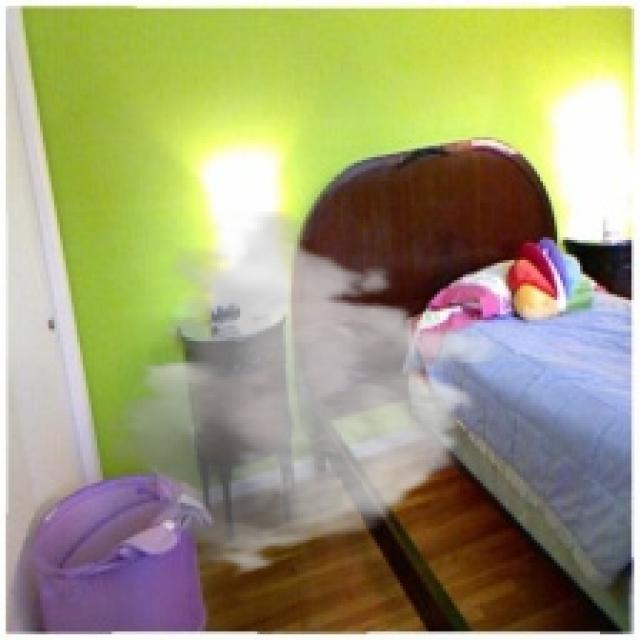smoke: (91, 212, 503, 577)
